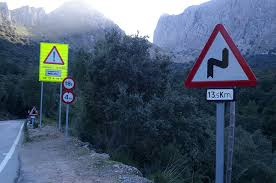Double_bend_right: (183, 22, 259, 88)
